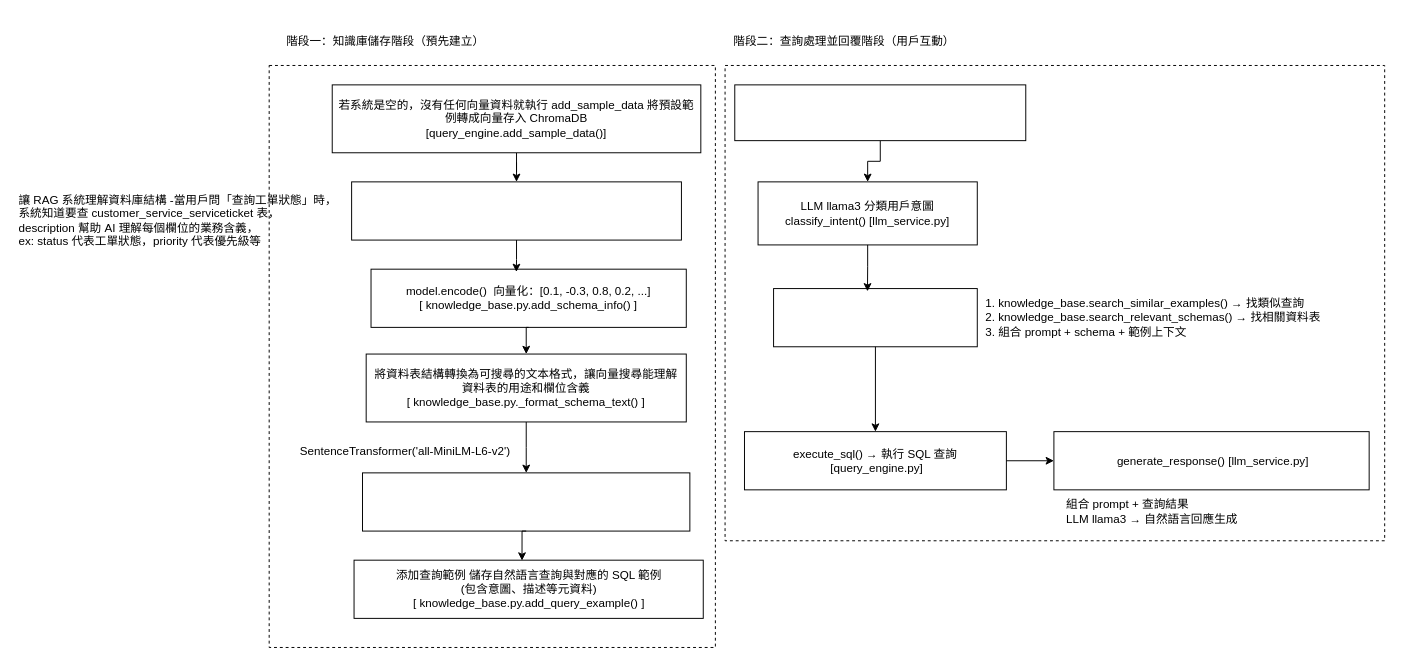
This 1402x664 diagram has some shape labels left out. Each missing label, with the box of its shape:
llama3 SQL 生成 generate_sql() [llm_service.py]: (773, 288, 977, 347)
添加真實的FAQ、知識庫、客服工單資料表 schema 資訊 [query_engine. _add_customer_service_schemas()]: (351, 181, 681, 240)
用戶查詢 [query_engine.py. process_query()] 處理用戶查詢的完整流程 - 這是對外的主要接口: (734, 84, 1026, 141)
透過 SentenceTransformer 將向量化的文本 存入 ChromaDB: (362, 472, 690, 531)
